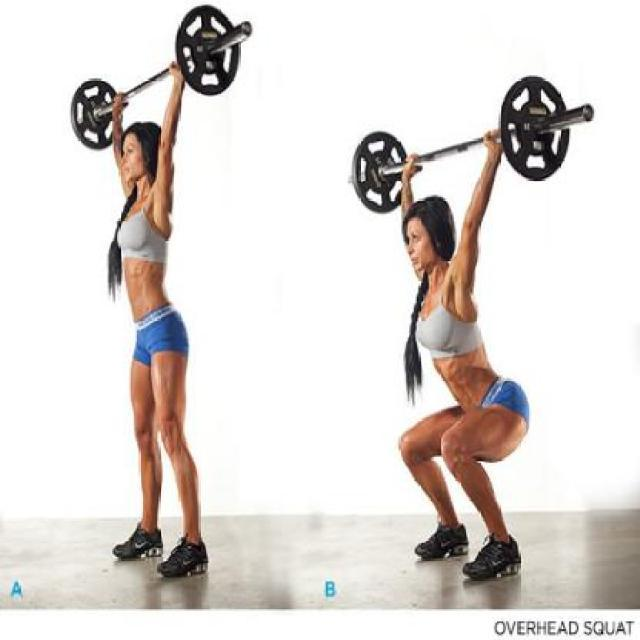barbell: (496, 72, 580, 192), (172, 4, 250, 104)
